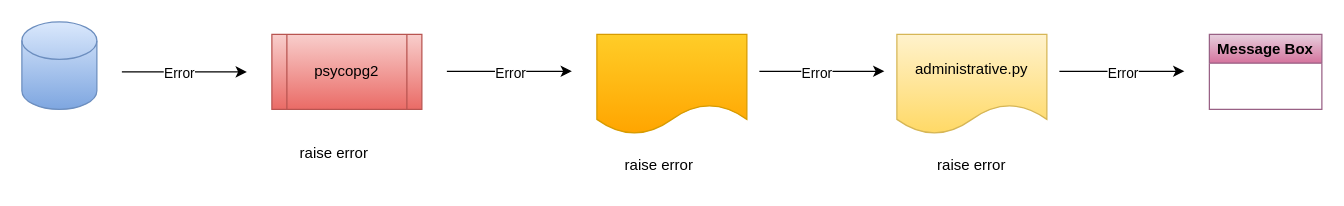
Image size: 1344x206. Some labels were removed from this diagram. Here are the shapes that lost their labels. From the top down, the centre of each, then its label:
At (x=59, y=65): "postgres".
At (x=671, y=83): "dbOperations.py".
